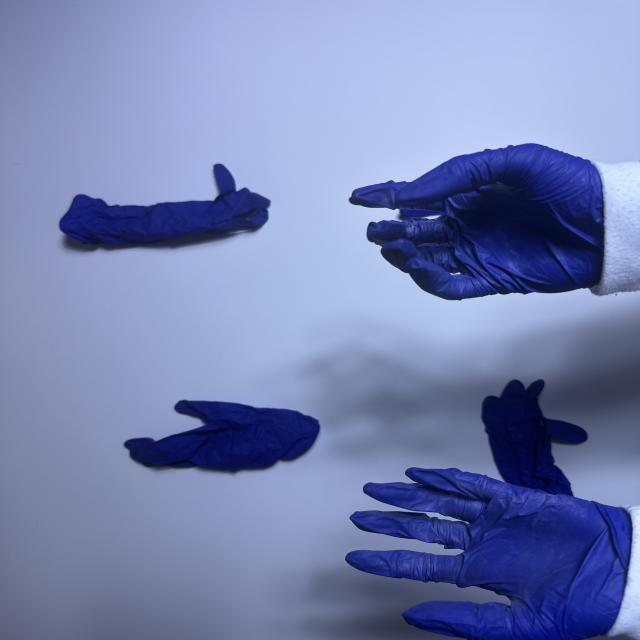gloves_contaminated: (345, 468, 632, 640), (350, 144, 604, 300)
